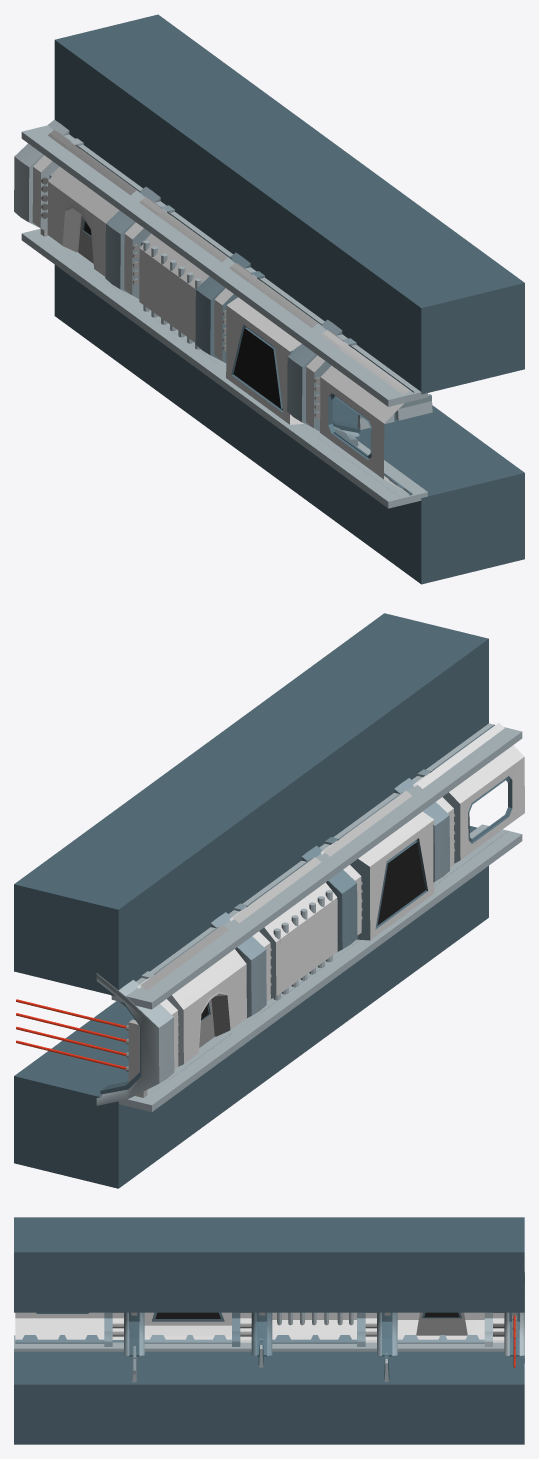
Rendered from station.fbx.
The picture shows the model from 3 angles, top to bottom: view 1: azimuth 30°, elevation 25°; view 2: azimuth 150°, elevation 25°; view 3: azimuth 270°, elevation 25°; orthographic projection. The views are drawn at different scales.
Visible parts, largest first — view 1: group3_group1_pCube7, pCube6, pCylinder9, group3_pCylinder16, pCylinder18, pCylinder8; view 2: group3_group1_pCube7, pCube6, pCylinder18, pCylinder9, group3_pCylinder16, pCylinder8, pCylinder29; view 3: pCube6, group3_group1_pCube7, pCylinder8, pCylinder9, group3_pCylinder16, pCylinder18.
Part boxes in pixels (bbox=[...]): group3_group1_pCube7: bbox=[21, 14, 524, 406]; pCube6: bbox=[21, 228, 524, 584]; pCylinder9: bbox=[195, 252, 322, 429]; group3_pCylinder16: bbox=[105, 187, 232, 363]; pCylinder18: bbox=[14, 119, 140, 296]; pCylinder8: bbox=[287, 319, 414, 496]; group3_group1_pCube7: bbox=[14, 613, 522, 1009]; pCube6: bbox=[14, 824, 522, 1188]; pCylinder18: bbox=[96, 925, 246, 1105]; pCylinder9: bbox=[301, 790, 434, 959]; group3_pCylinder16: bbox=[210, 857, 337, 1024]; pCylinder8: bbox=[394, 723, 524, 882]; pCylinder29: bbox=[16, 999, 147, 1097]; pCube6: bbox=[14, 1335, 524, 1444]; group3_group1_pCube7: bbox=[14, 1217, 524, 1315]; pCylinder8: bbox=[15, 1312, 144, 1356]; pCylinder9: bbox=[144, 1312, 272, 1356]; group3_pCylinder16: bbox=[272, 1312, 397, 1356]; pCylinder18: bbox=[397, 1272, 524, 1362].
Bounding box in the file's own units: 22.8 × 40.27 × 96.95.
